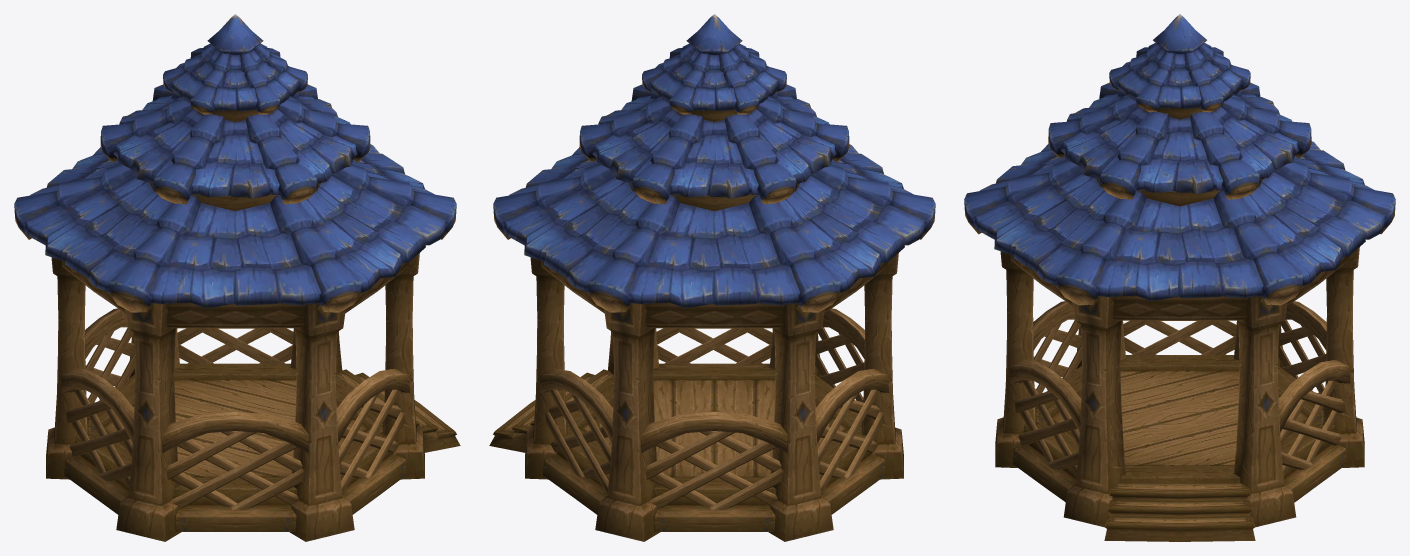
3 renders of one model, left to right at view 1: azimuth 30°, elevation 25°; view 2: azimuth 150°, elevation 25°; view 3: azimuth 270°, elevation 25°, orthographic. The views are drawn at different scales.
Bounding box in the file's own units: 8.18 × 9.71 × 8.6.
1 material, 1 textured.
